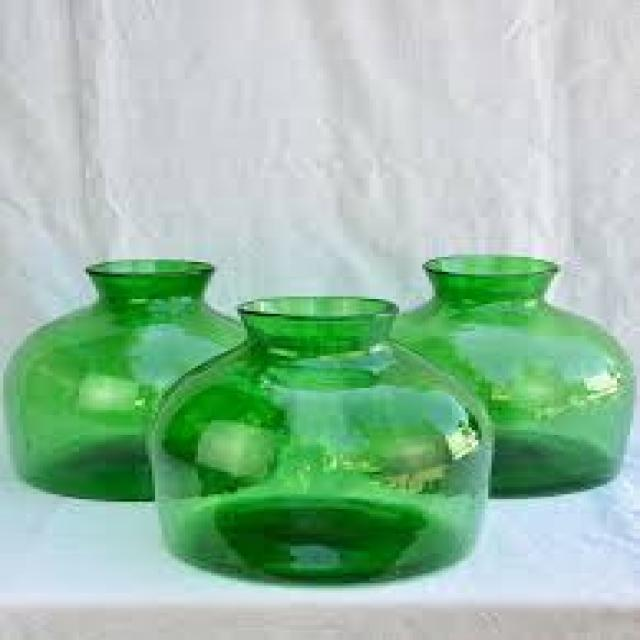glass: (145, 294, 488, 583), (0, 260, 277, 502), (383, 252, 627, 494)
